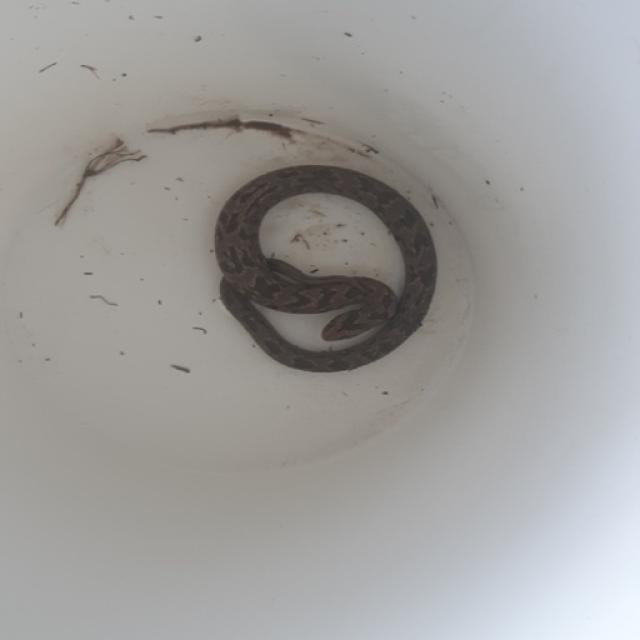snake: (202, 150, 443, 381)
